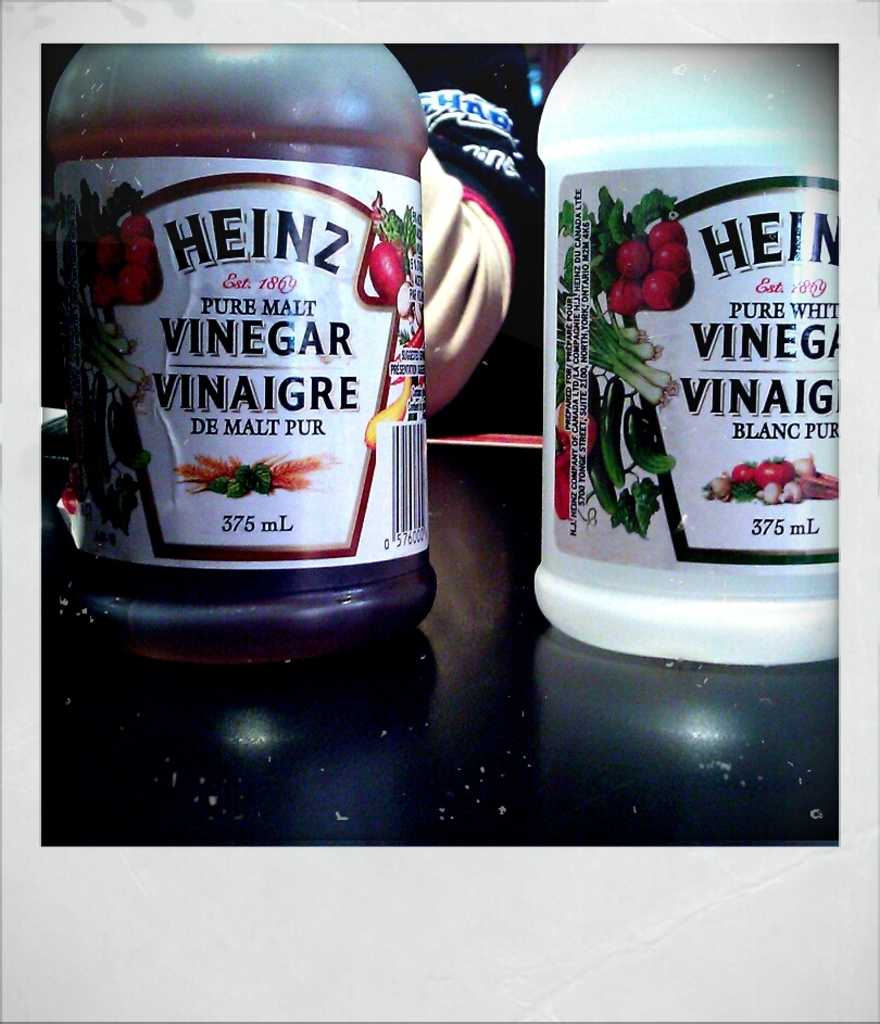Tomato: (638, 261, 681, 311), (644, 221, 690, 264), (748, 449, 798, 488), (606, 272, 647, 319), (617, 235, 652, 276), (731, 459, 750, 486)
